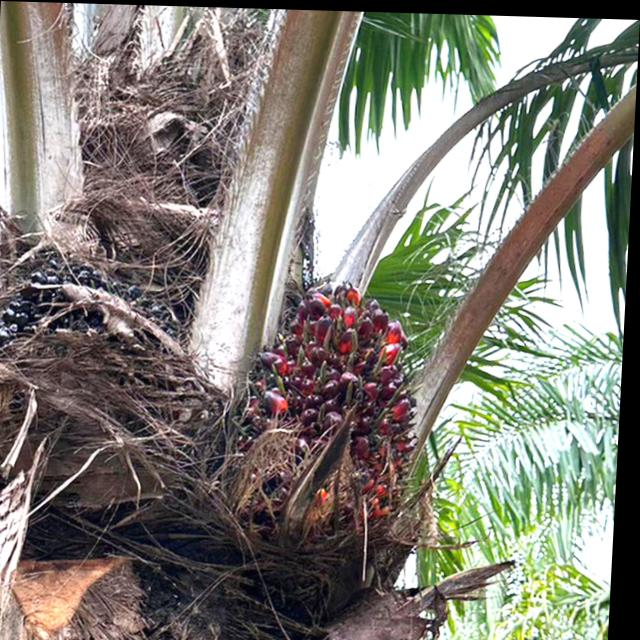ripe: (0, 262, 240, 503), (247, 270, 437, 524)
